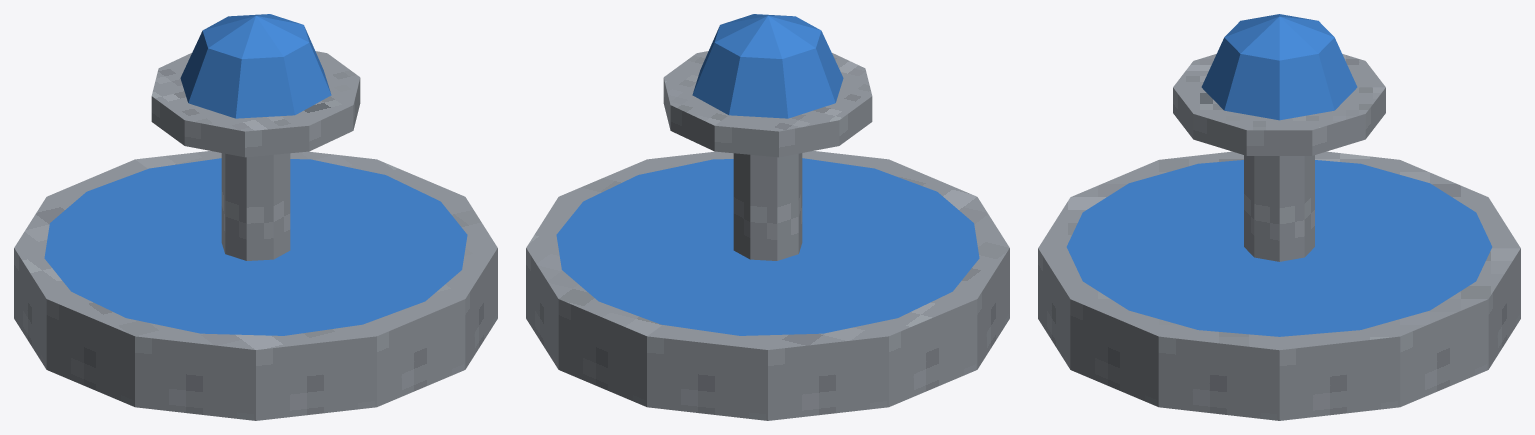
File: fountain.glb
3 renders of one model, left to right at view 1: azimuth 30°, elevation 25°; view 2: azimuth 150°, elevation 25°; view 3: azimuth 270°, elevation 25°, orthographic.
Parts seen in each view (by area): view 1: fountain; view 2: fountain; view 3: fountain.
Boxes of the visible parts, bbox=[...] form: fountain: bbox=[14, 14, 497, 420]; fountain: bbox=[526, 14, 1009, 420]; fountain: bbox=[1038, 14, 1520, 420].
Size of the model in its own units: 3.4 by 2.35 by 3.4.
Materials: 2 (2 with a texture image).
